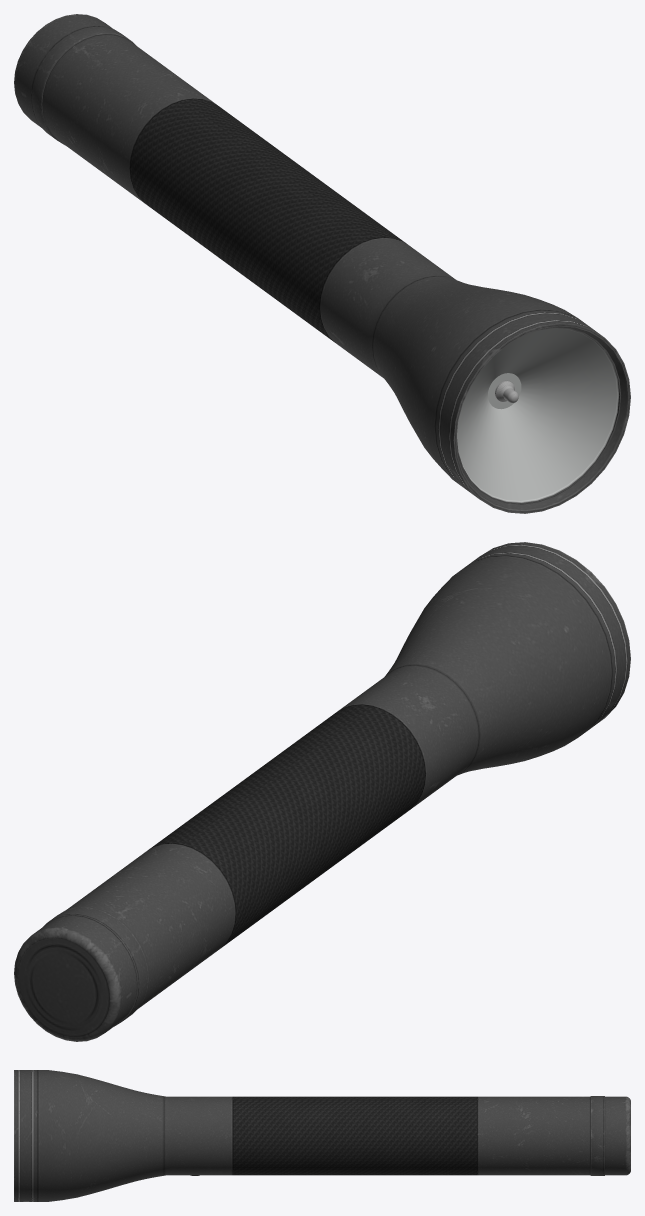
Rendered from flashlight.fbx.
The picture shows the model from 3 angles, top to bottom: view 1: azimuth 30°, elevation 25°; view 2: azimuth 150°, elevation 25°; view 3: azimuth 270°, elevation 25°; orthographic projection. The views are drawn at different scales.
Parts seen in each view (by area): view 1: defaultMaterial; view 2: defaultMaterial; view 3: defaultMaterial.
Boxes of the visible parts, x1,y1,x2,y2 form: defaultMaterial: (14, 14, 630, 513); defaultMaterial: (14, 542, 630, 1041); defaultMaterial: (14, 1070, 630, 1201).
Size of the model in its own units: 740 by 740 by 3461.
1 material, 1 textured.
